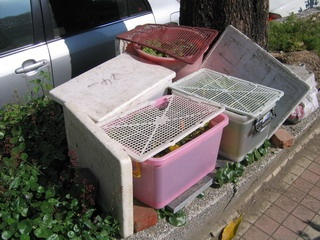box: (97, 94, 229, 209), (167, 68, 284, 163)
styrofoam: (48, 51, 177, 168)
